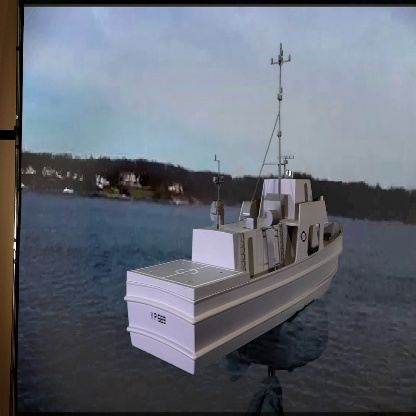YP689: (120, 46, 351, 373)
